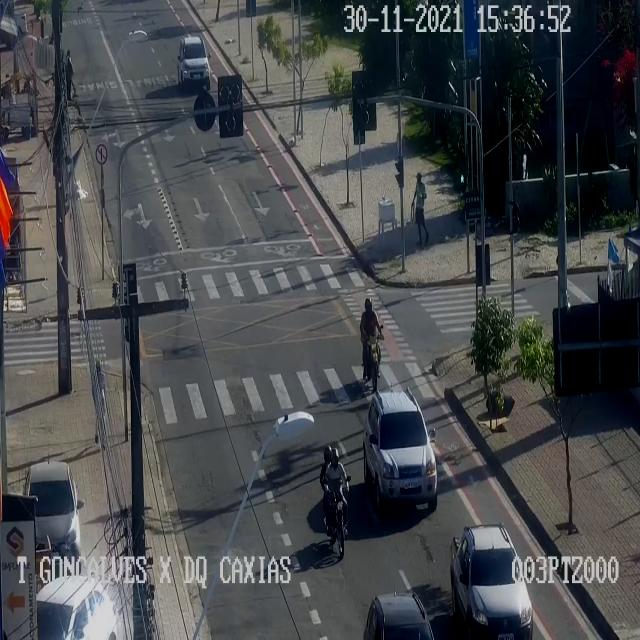Car: (363, 391, 442, 514), (449, 525, 531, 639), (26, 463, 84, 566), (38, 576, 126, 639), (350, 584, 438, 640), (176, 36, 212, 91)
Motorcycle: (318, 442, 350, 556), (359, 298, 383, 391)
